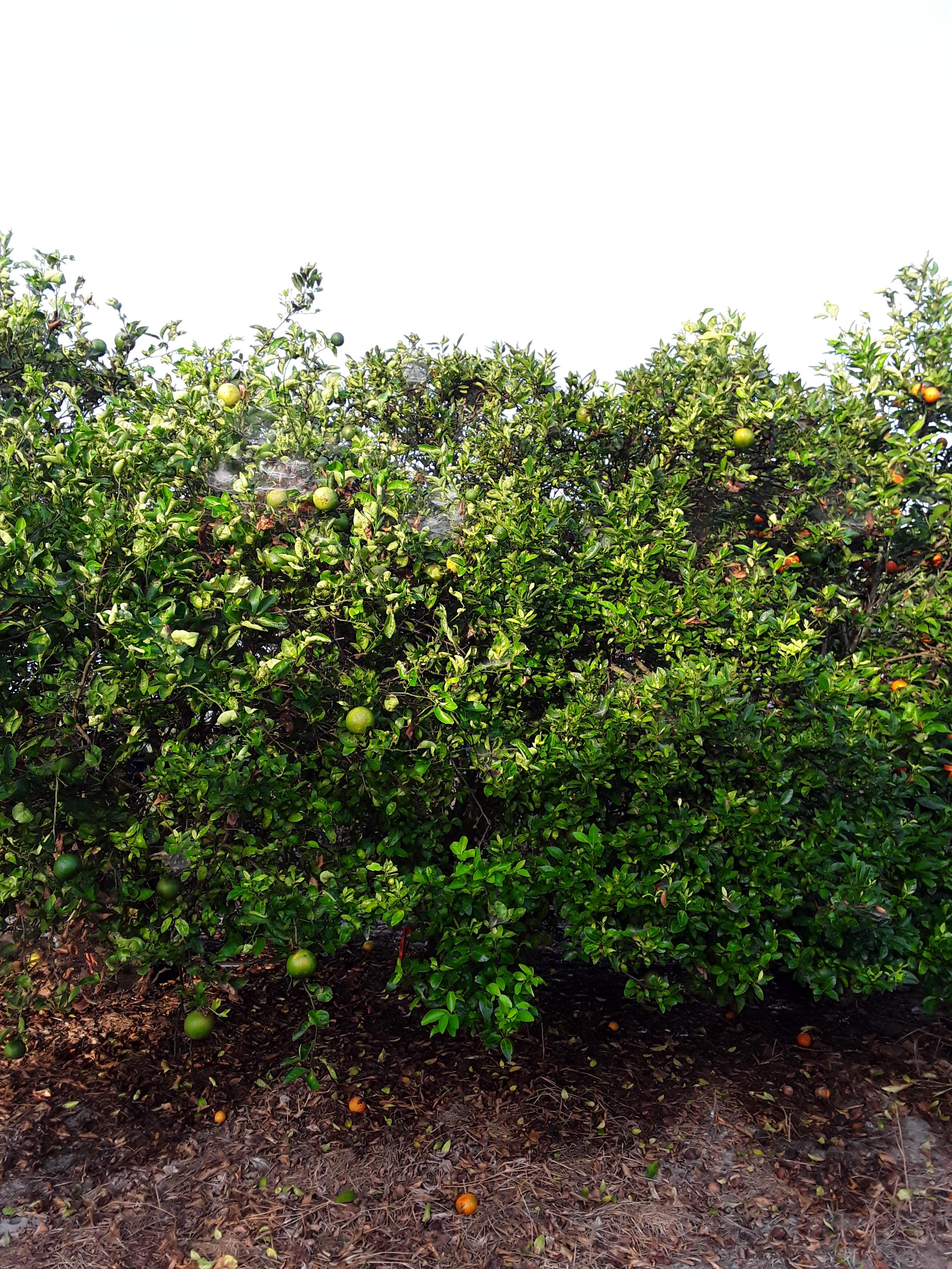fruit_on_ground: (177, 1005, 219, 1045), (48, 849, 86, 883), (285, 943, 320, 977), (344, 705, 376, 737), (152, 872, 186, 901), (731, 422, 760, 453), (215, 381, 245, 410), (264, 484, 294, 513), (262, 548, 293, 575), (313, 484, 343, 511), (111, 332, 141, 359), (743, 795, 769, 823), (888, 764, 919, 787), (418, 559, 445, 584), (565, 818, 590, 845), (2, 1038, 29, 1063), (641, 965, 665, 989), (341, 421, 362, 448), (493, 519, 516, 542), (570, 406, 595, 426), (84, 338, 109, 357), (444, 552, 466, 573), (922, 385, 944, 405), (463, 480, 479, 506), (628, 706, 654, 722), (328, 330, 347, 350), (785, 554, 803, 572), (881, 555, 899, 573), (909, 379, 926, 398), (929, 551, 945, 570), (891, 676, 908, 692), (770, 563, 788, 575), (943, 757, 952, 779), (934, 435, 948, 448), (861, 559, 874, 571), (755, 513, 762, 524)
fruit_on_tree: (343, 1091, 372, 1120), (453, 1191, 481, 1219), (205, 1104, 234, 1129), (791, 1028, 816, 1051), (813, 1078, 833, 1106), (775, 1157, 793, 1187), (703, 1177, 728, 1196), (683, 1146, 708, 1164), (604, 1016, 623, 1035), (361, 939, 380, 956), (770, 1226, 789, 1239), (783, 1082, 796, 1098), (723, 1009, 738, 1022)
